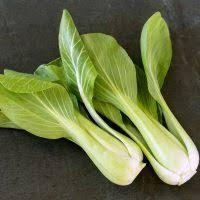Healthy-Pechay: (8, 9, 200, 184)
